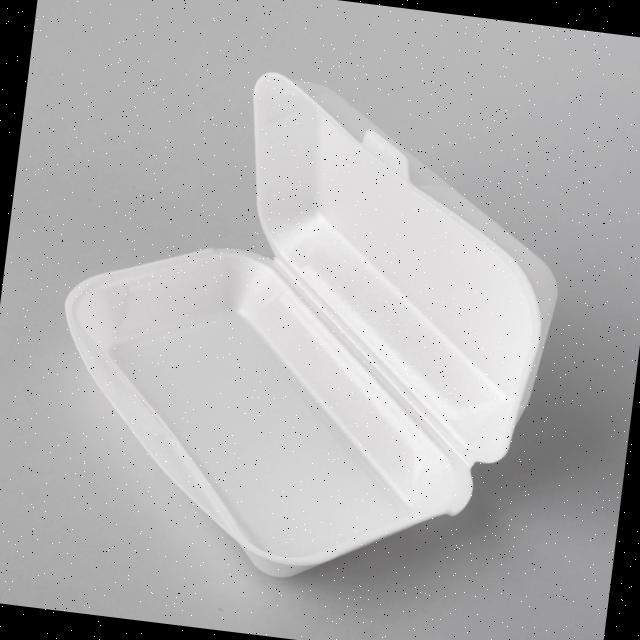styrofoam: (32, 47, 582, 608)
